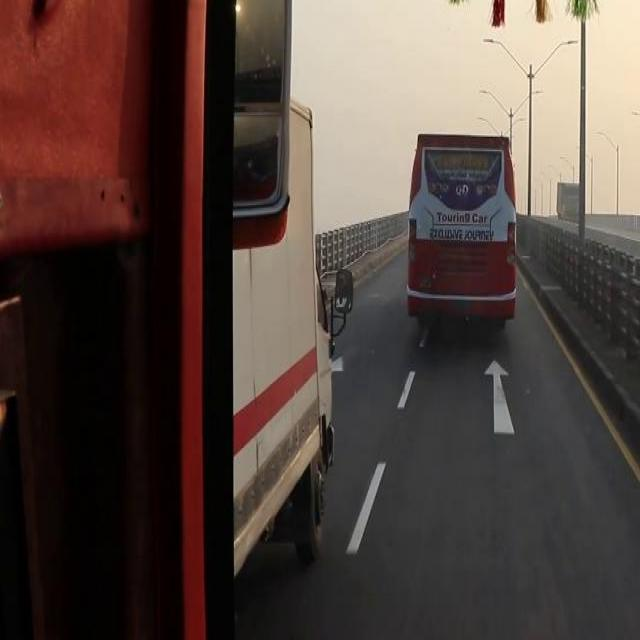vehicle: (224, 96, 352, 572), (407, 134, 517, 317), (558, 181, 583, 221)
